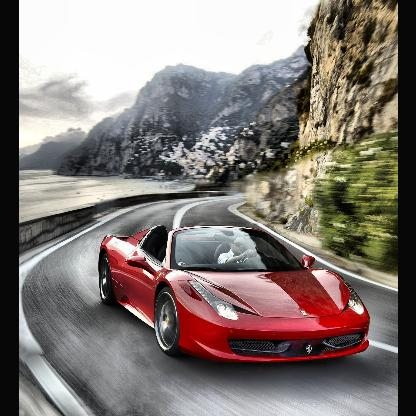Ferrari 458 Italia Convertible 2012: (92, 223, 374, 373)
